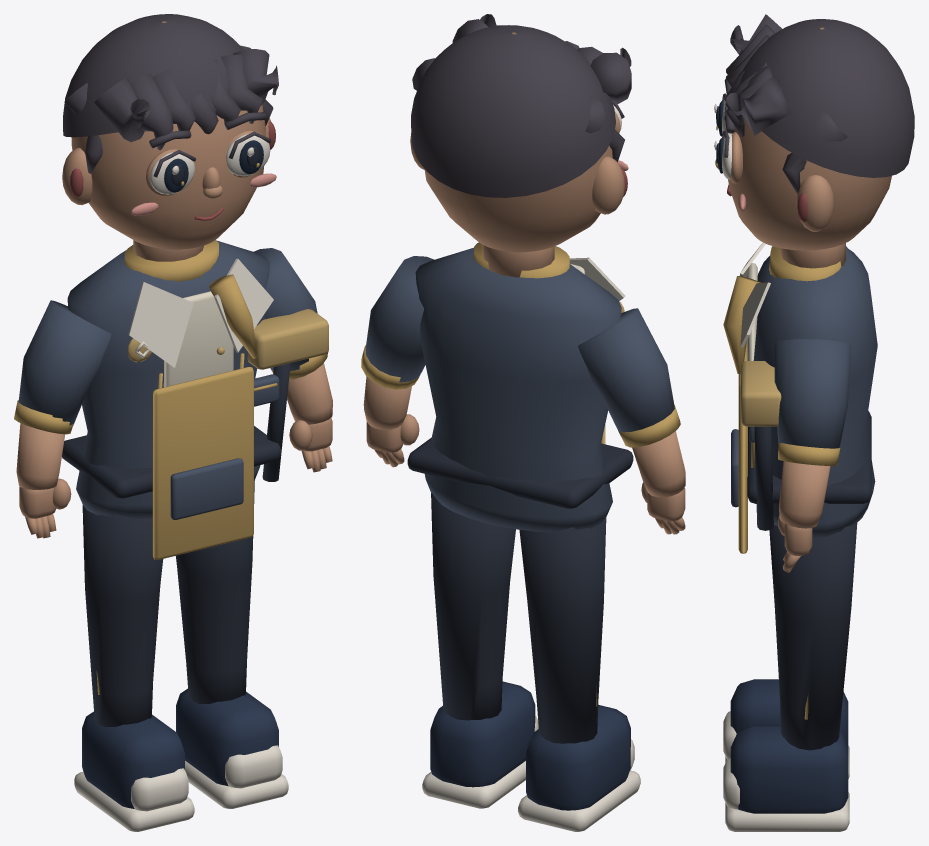
File: elite_iron_smith.glb
3 views of the same model, side by side, from view 1: azimuth 30°, elevation 25°; view 2: azimuth 150°, elevation 25°; view 3: azimuth 270°, elevation 25° (orthographic).
Visible parts, largest first — view 1: figure.022; view 2: figure.022; view 3: figure.022.
Boxes of the visible parts, <box> form: figure.022: <box>14,14,332,831</box>; figure.022: <box>361,14,685,831</box>; figure.022: <box>714,14,914,831</box>.
Size of the model in its own units: 1.13 by 2.63 by 0.6222.
